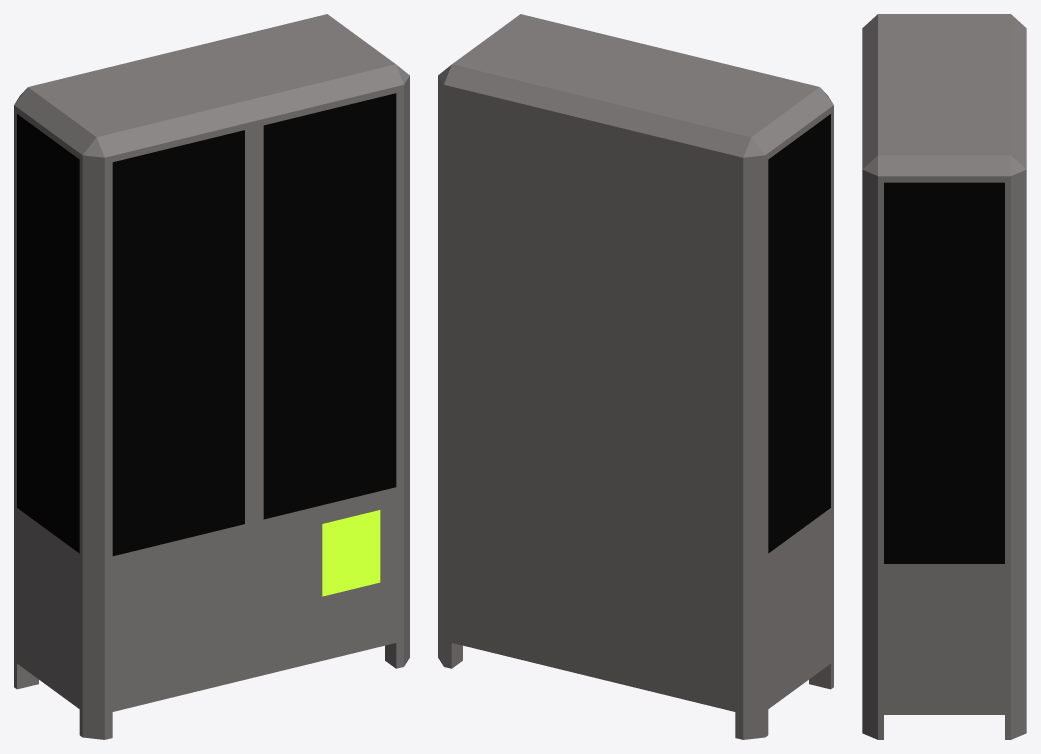
Rendered from scifi_scifi-hydroponic.fbx.
3 renders of one model, left to right at view 1: azimuth 30°, elevation 25°; view 2: azimuth 150°, elevation 25°; view 3: azimuth 270°, elevation 25°, orthographic. The views are drawn at different scales.
Parts seen in each view (by area): view 1: scifi_scifi_hydroponic; view 2: scifi_scifi_hydroponic; view 3: scifi_scifi_hydroponic.
Part boxes in pixels (left/top/right/bottom): scifi_scifi_hydroponic: left=14, top=14, right=409, bottom=739; scifi_scifi_hydroponic: left=438, top=14, right=833, bottom=739; scifi_scifi_hydroponic: left=862, top=14, right=1026, bottom=739.
Size of the model in its own units: 115 by 200 by 51.48.
3 materials, 1 textured.
